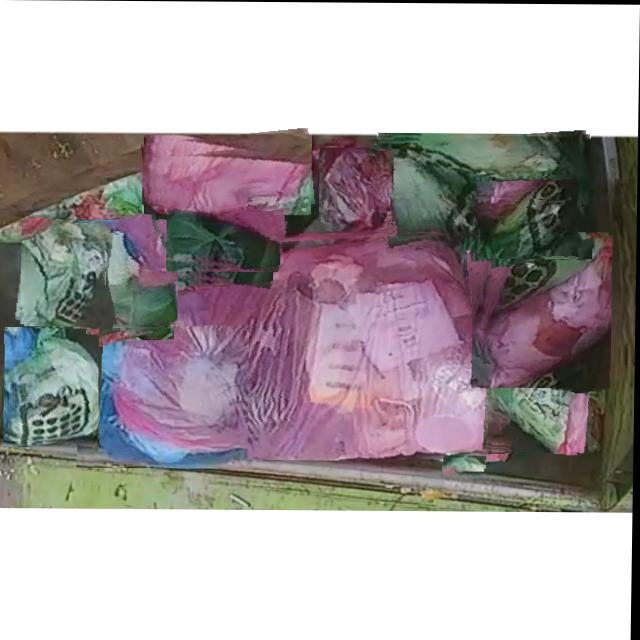general_trashbag: (377, 134, 591, 199), (490, 323, 590, 451), (68, 233, 177, 327), (9, 329, 100, 441), (27, 221, 105, 326), (167, 206, 282, 271), (478, 182, 576, 257), (388, 164, 483, 235), (445, 455, 486, 467), (52, 329, 55, 330)
other_trashbag: (113, 231, 513, 460), (82, 327, 248, 468), (481, 236, 612, 386), (144, 152, 310, 214), (321, 147, 390, 229)
